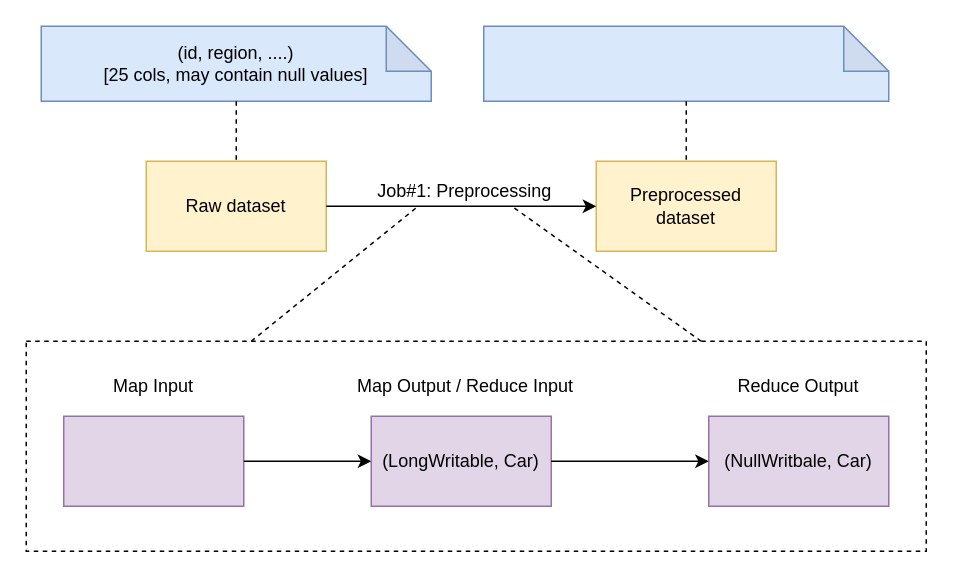
Some shapes in this 953 by 578 pixel diagram are drawn without their labels. Each missing label, with the centre of its shape:
"(LongWritable, Text)" goes at [153,460].
"(region, price, brand, fuel, odometer) [5 cols, no missing values]" goes at [685,63].
